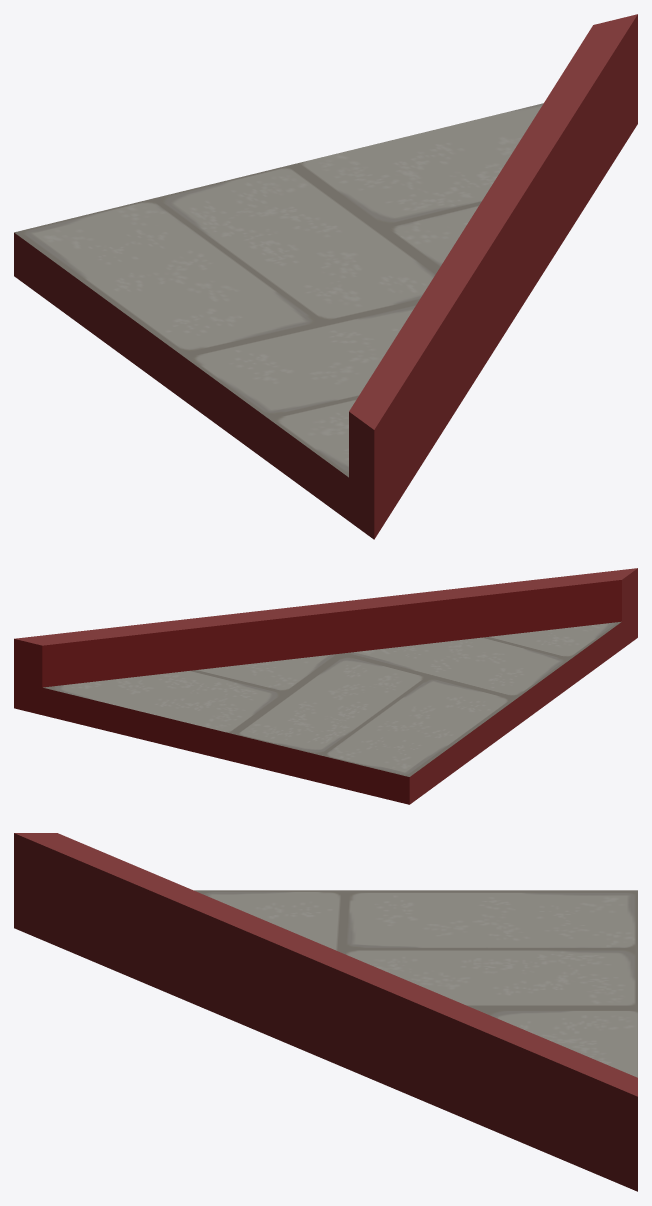
The model's file is RoofTop_A01.fbx.
3 views of the same model, one above another, from view 1: azimuth 30°, elevation 25°; view 2: azimuth 150°, elevation 25°; view 3: azimuth 270°, elevation 25° (orthographic). The views are drawn at different scales.
Visible parts, largest first — view 1: RoofTop_A01; view 2: RoofTop_A01; view 3: RoofTop_A01.
Part boxes in pixels (x1=…): RoofTop_A01: x1=14, y1=14, x2=637, y2=539; RoofTop_A01: x1=14, y1=568, x2=637, y2=804; RoofTop_A01: x1=14, y1=833, x2=637, y2=1191.
Size of the model in its own units: 608 by 102 by 608.
